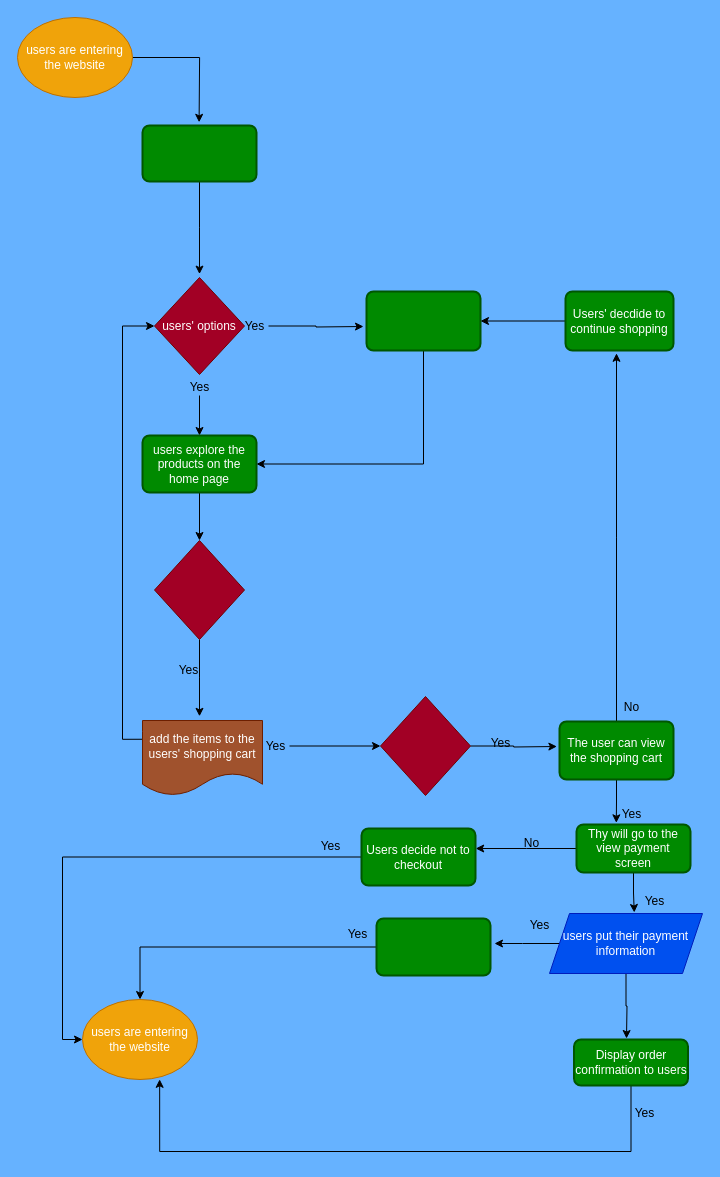
The diagram is 720 pixels wide and 1177 high, and some of its shapes have lost their labels. Here are the shapes that lost their labels. From the top down, the box of each, then its label:
(141, 124, 257, 182): User begins by entering the website
(365, 290, 481, 351): provide input for the users to search the item they are looking for
(154, 540, 244, 640): Specific products
(380, 696, 470, 796): No more shopping
(375, 917, 491, 976): Users recieve an order confirmation
